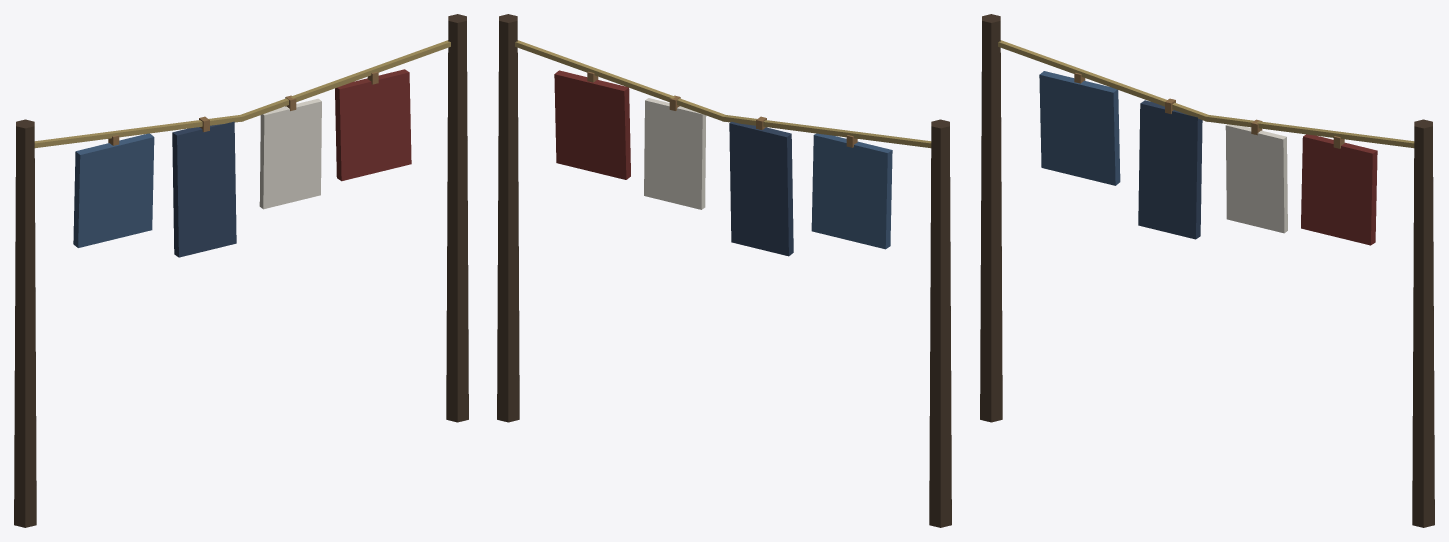
The model's file is laundry_line.glb.
3 renders of one model, left to right at view 1: azimuth 30°, elevation 25°; view 2: azimuth 150°, elevation 25°; view 3: azimuth 330°, elevation 25°, orthographic.
Parts seen in each view (by area): view 1: laundry_line; view 2: laundry_line; view 3: laundry_line.
Part boxes in pixels (x1,y1,x2,y2): laundry_line: [14, 14, 468, 527]; laundry_line: [497, 14, 951, 527]; laundry_line: [980, 14, 1434, 527].
Size of what is drawn, in the model's own units: 2.21 by 1.85 by 0.0953.
Materials: 2 (2 with a texture image).
